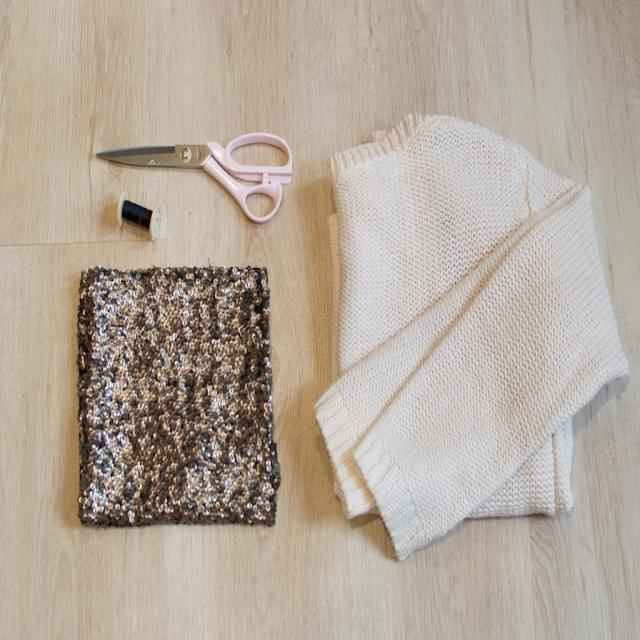scissors: (95, 131, 293, 224)
